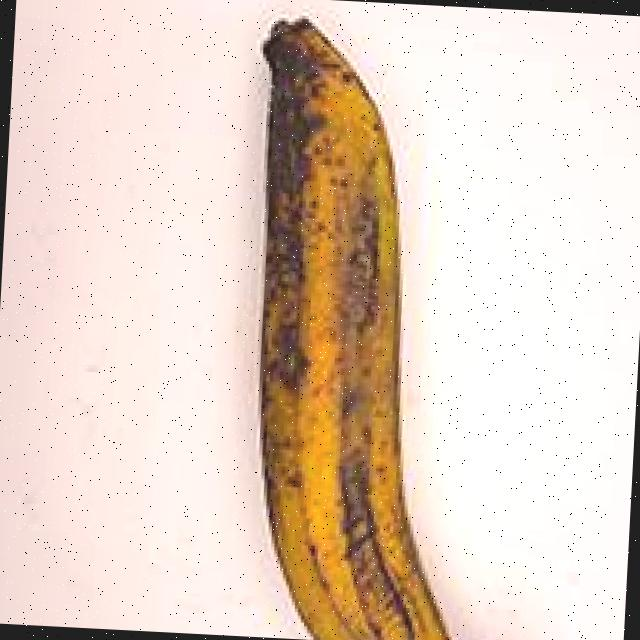Overripe: (152, 0, 623, 640)
